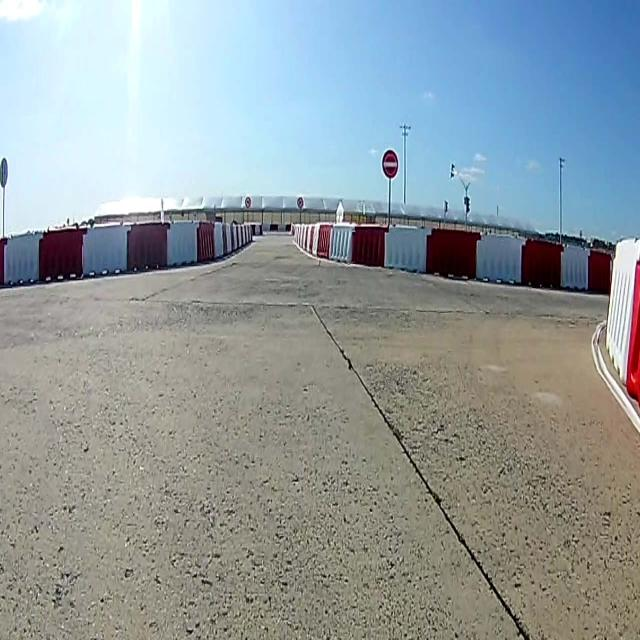girisyok: (381, 149, 399, 179)
